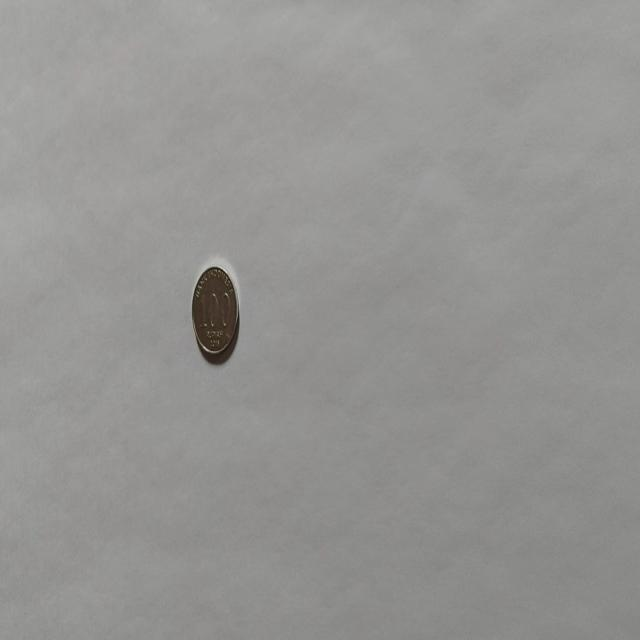seratus rupiah: (190, 264, 240, 358)
